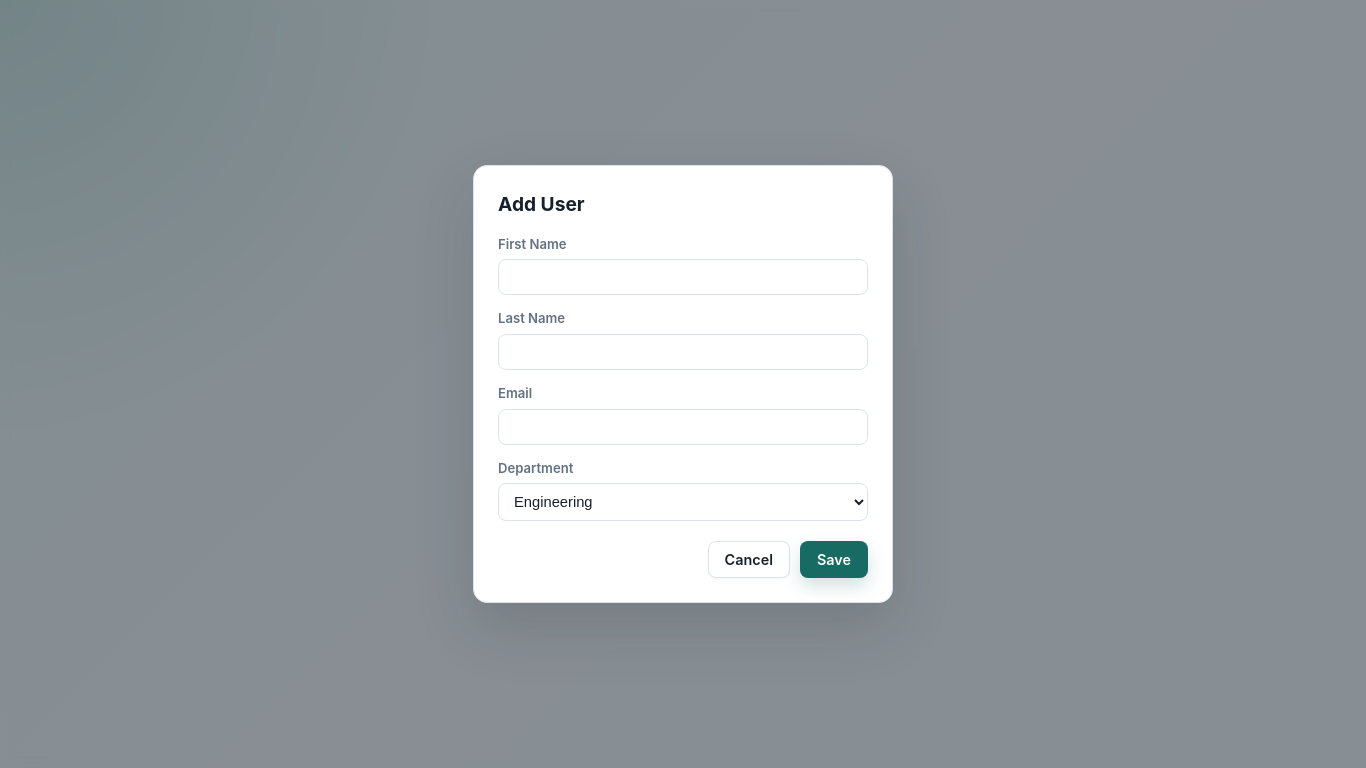
Test: UserFormModal Component › should validate email format
Type "John" into the field labelled "First Name".
click(683, 277); type("John")  # box [498, 259, 868, 295]
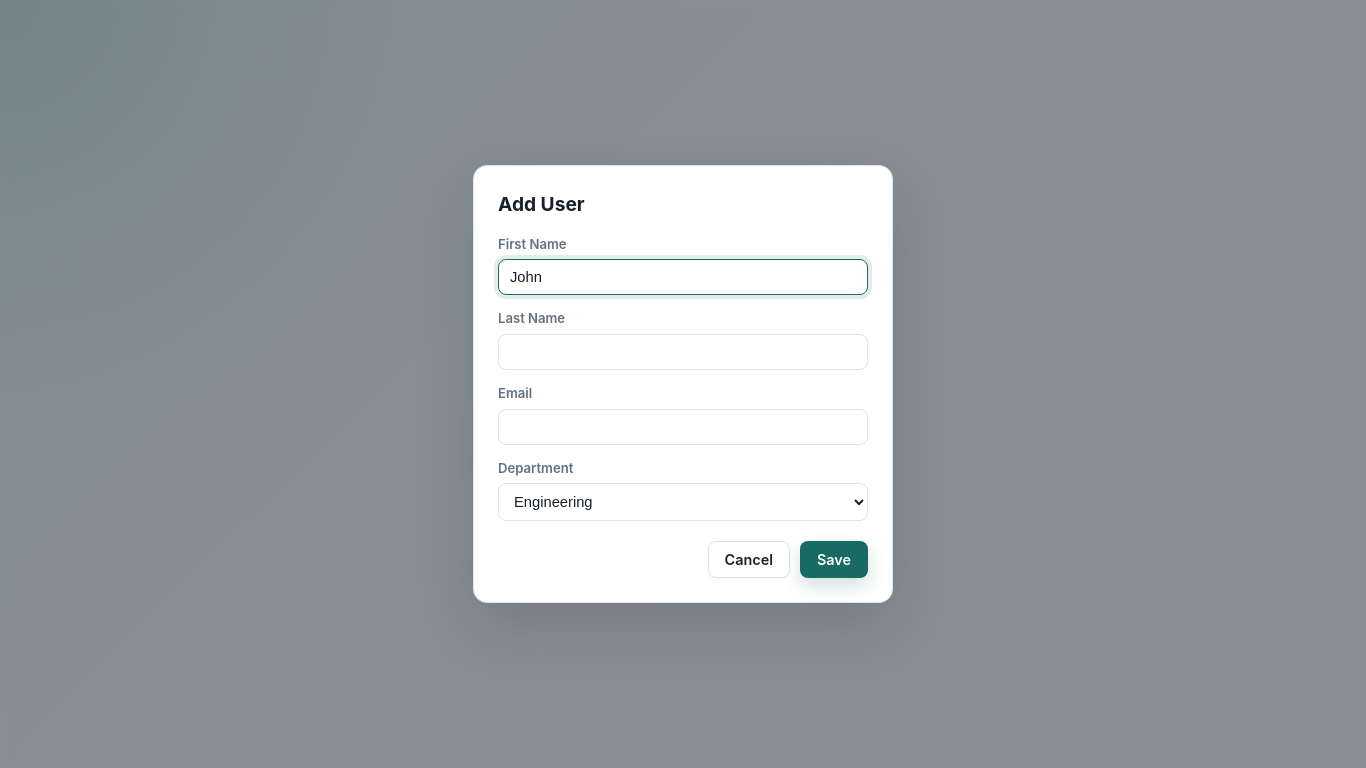
Type "Doe" into the field labelled "Last Name".
click(683, 352); type("Doe")  # box [498, 334, 868, 370]
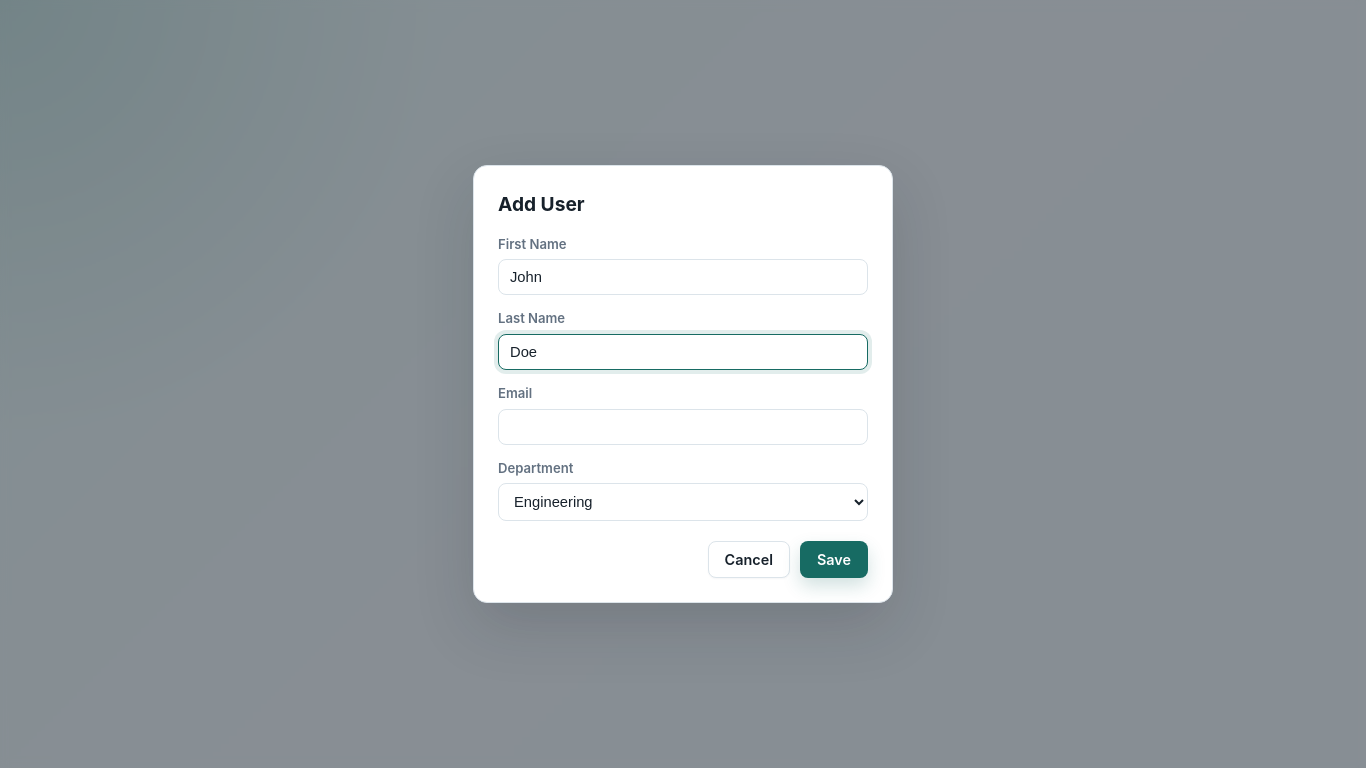
Type "invalid-email" into the field labelled "Email".
click(683, 427); type("invalid-email")  # box [498, 409, 868, 445]
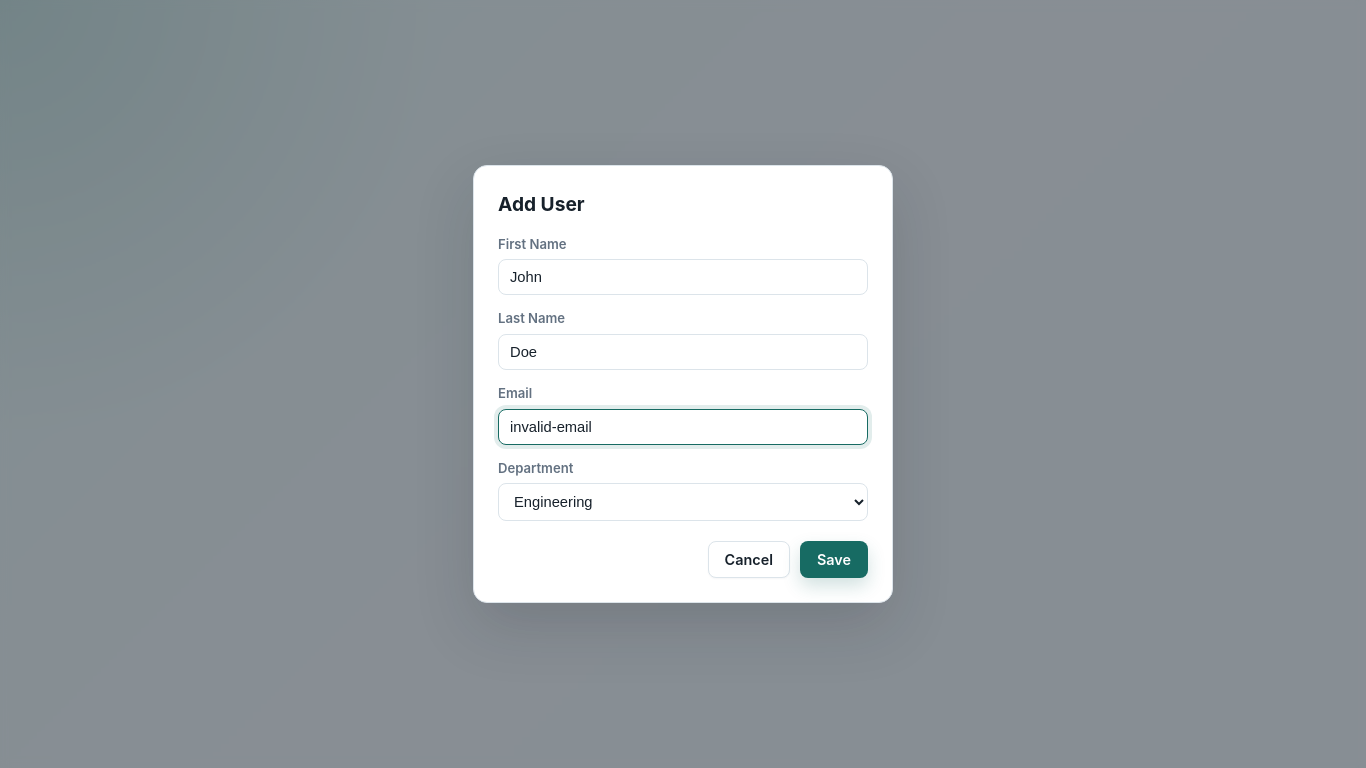
Click the button "Save".
click(834, 560)  # box [800, 541, 868, 578]
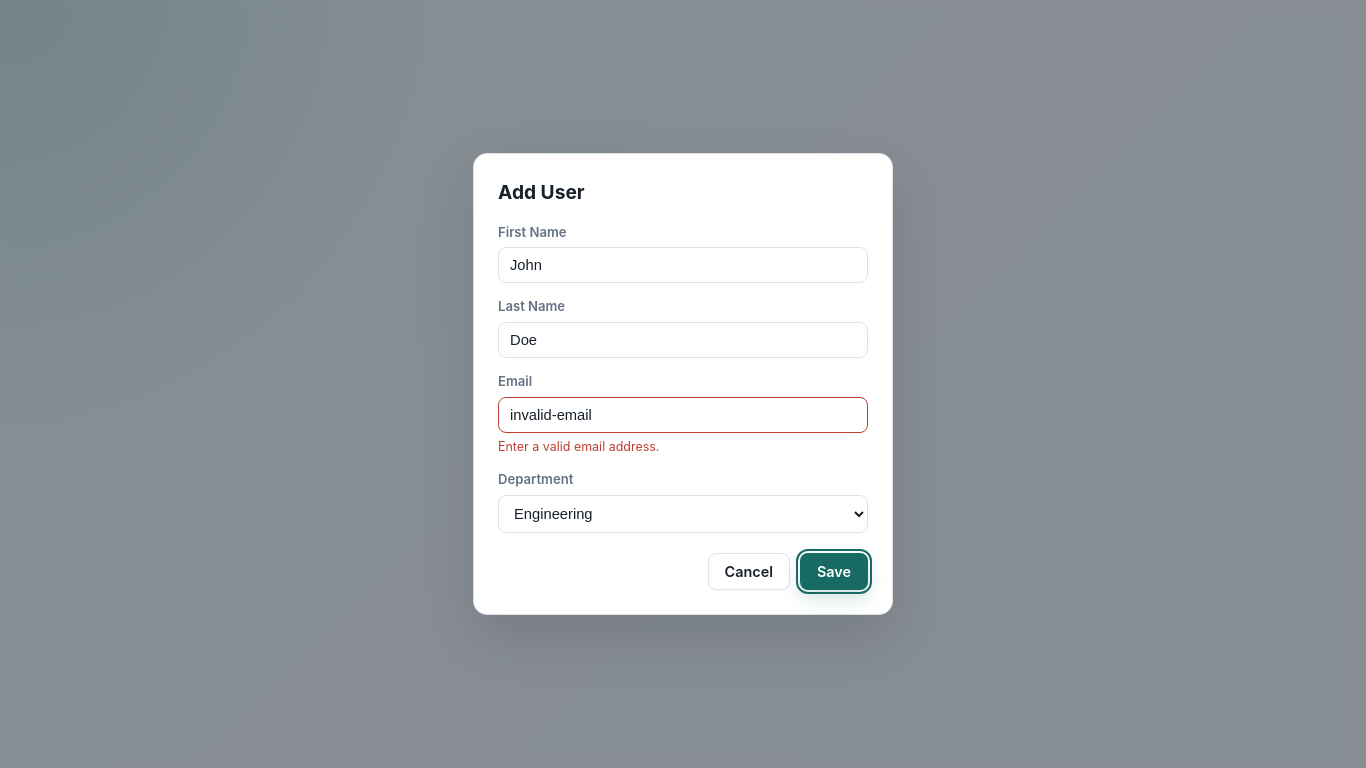
Now the text "Enter a valid email address." is shown, box [498, 439, 660, 454]
